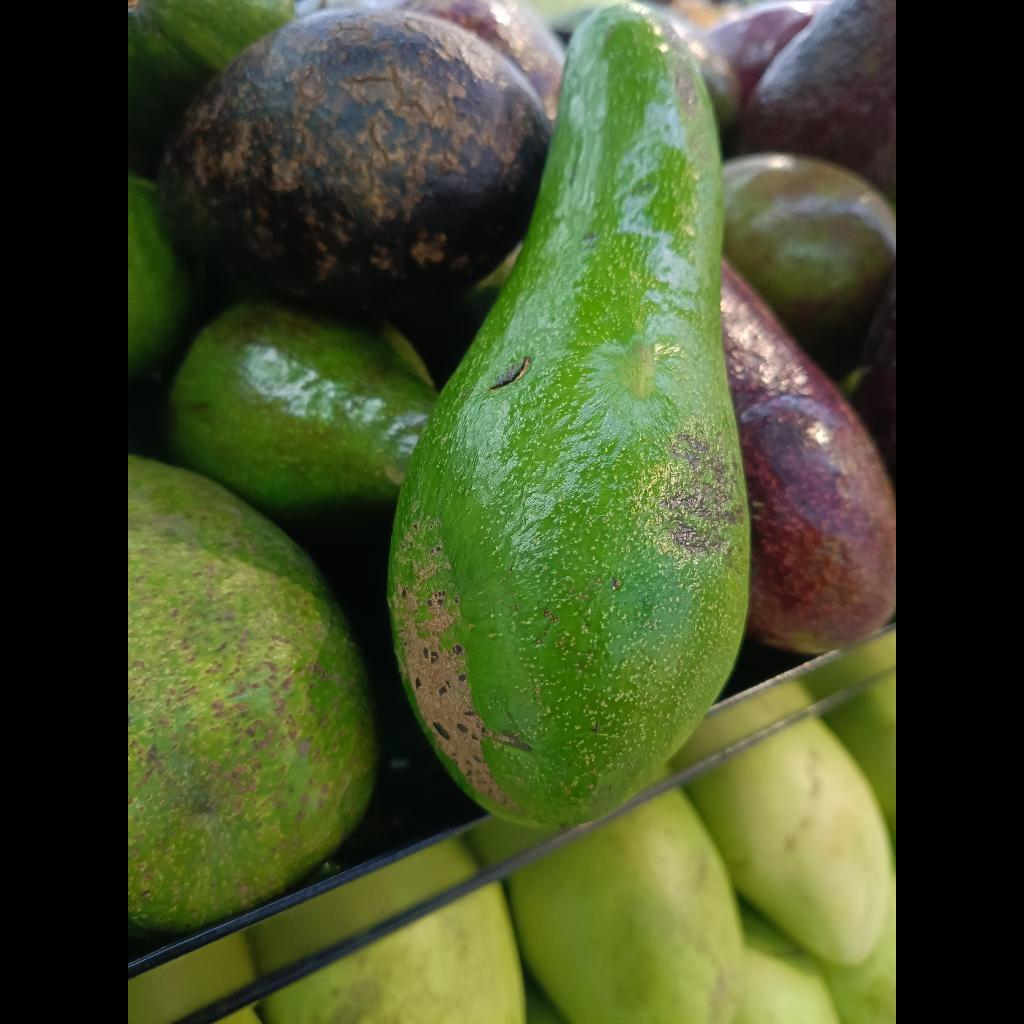rona: (388, 3, 750, 825)
